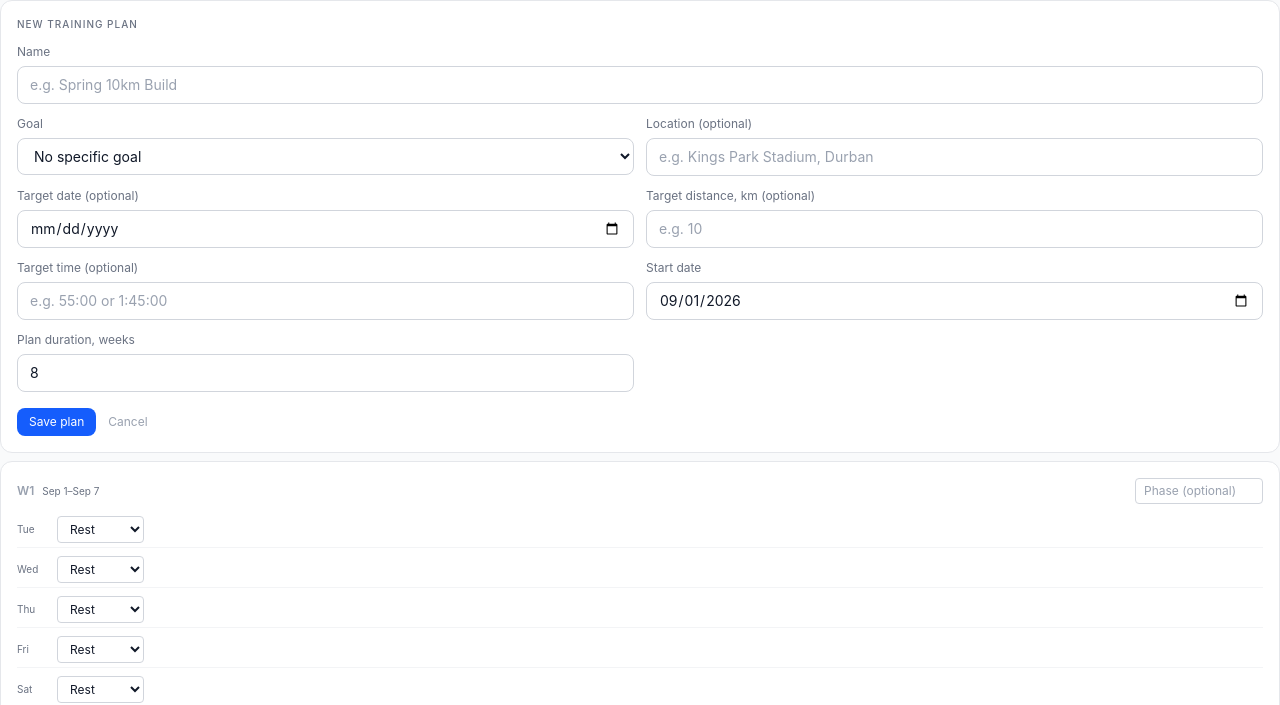
TrainingPlanBuilder › requires a name before saving
The width and height of the screenshot is (1280, 705).
What coordinates should you click on to do the following:
click the button "Save plan"
I would click on:
 (57, 422)
Its box is [17,408,96,436].
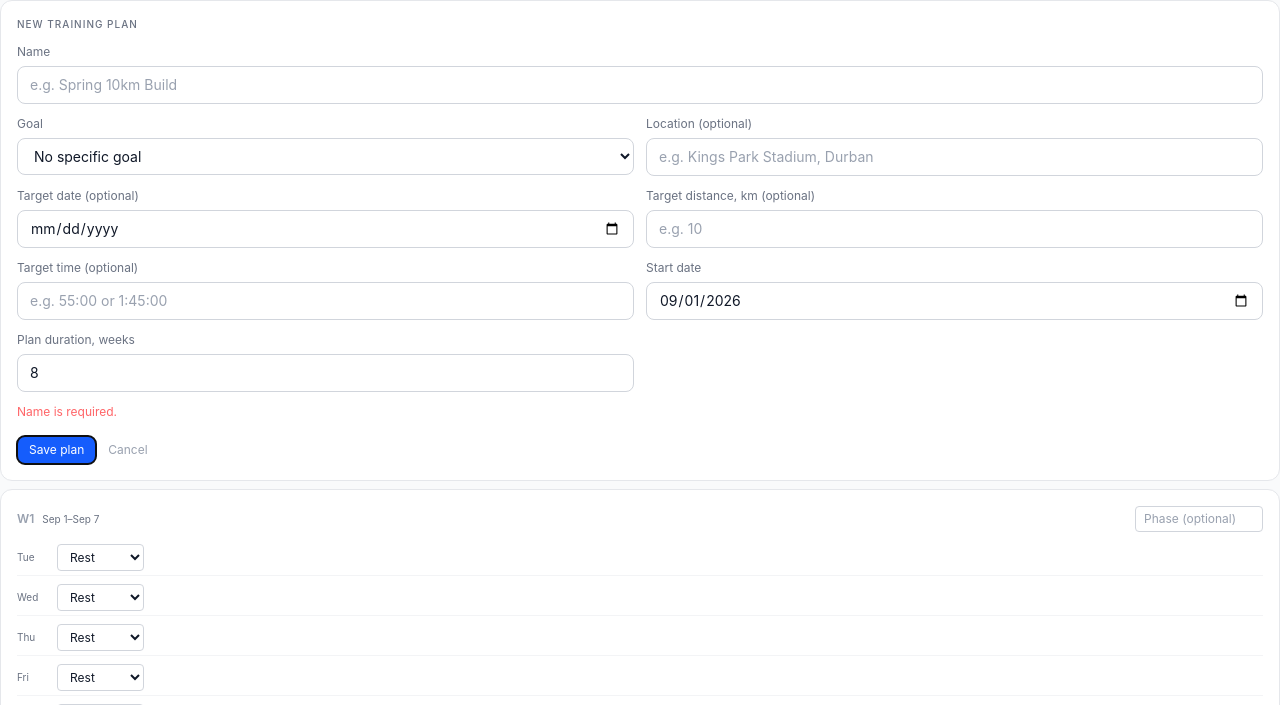
expect the text "Name is required." is shown: met, box [17,404,117,419]
